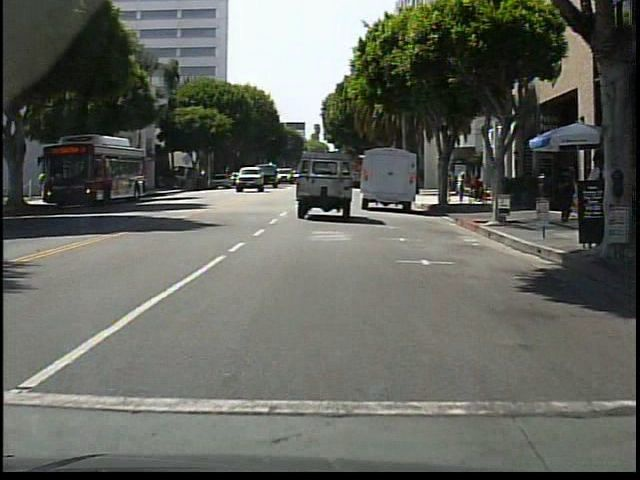person: (582, 150, 611, 244), (557, 168, 576, 222), (455, 170, 467, 205), (444, 166, 455, 204), (39, 170, 47, 198)
